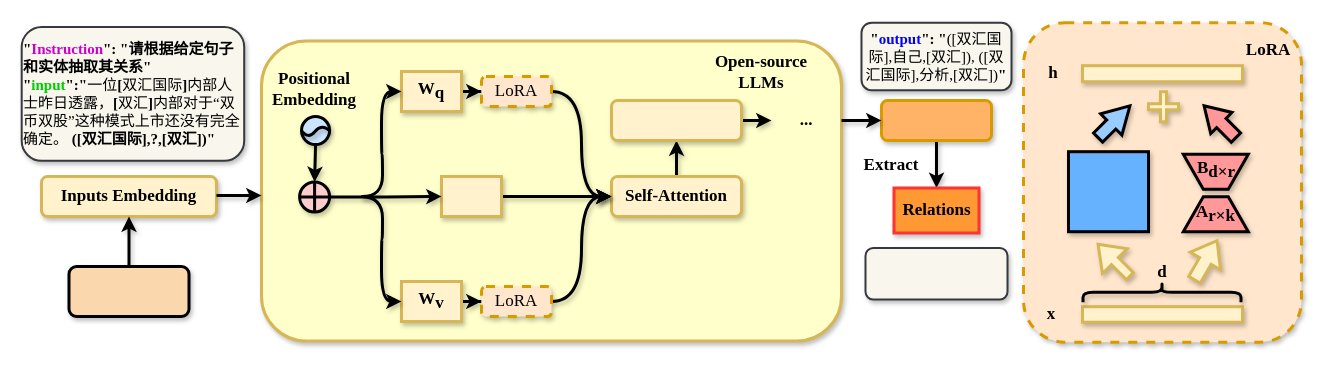
This 1327x368 diagram has some shape labels left out. Each missing label, with the centre of its shape:
"Add&Norm" belongs at pixel 677 121.
"Outputs" belongs at pixel 937 121.
"Prompts" belongs at pixel 129 292.
"Relation : 自己, 分析" belongs at pixel 937 274.
"W d×k" belongs at pixel 1109 193.
"W k" belongs at pixel 472 197.
